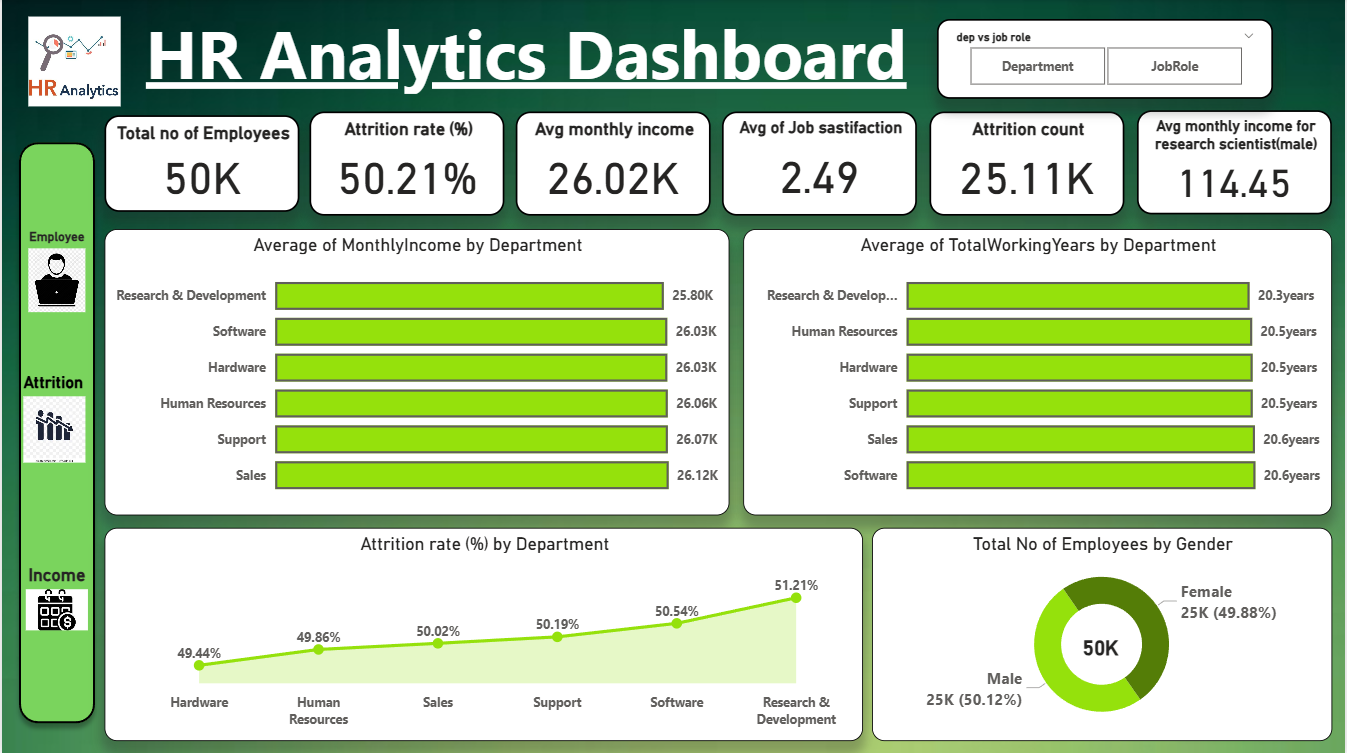

This screenshot's page, from the dashboard's own definition file:
{"tool":"powerbi","page":{"name":"Dash board","canvas":[1280,720],"ordinal":0},"visuals":[{"type":"shape","box":[104.8,0,789.3,97.6],"z":0},{"type":"card","title":"Total no of Employees","fields":{"Values":["HR_1.Total Employees"]},"box":[97.6,110.8,185.2,91.7],"z":0,"group":"g1"},{"type":"card","title":"Attrition rate (%)","fields":{"Values":["HR_1.Attrition rate (%)"]},"box":[292.2,107.2,185.2,98.8],"z":1000,"group":"g1"},{"type":"shape","box":[7.1,127.4,90.5,571.4],"z":1000},{"type":"group","id":"g1","title":"Group 1","box":[97.6,106,1169.1,100],"z":2000},{"type":"card","title":"Avg monthly income","fields":{"Values":["Avg(HR_2.MonthlyIncome)"]},"box":[489.3,107.2,185.2,98.8],"z":2000,"group":"g1"},{"type":"card","title":"Avg of Job sastifaction","fields":{"Values":["Avg(HR_1.JobSatisfaction)"]},"box":[686.3,107.2,185.2,98.8],"z":3000,"group":"g1"},{"type":"image","title":"Income","box":[17.9,538.1,69,67.9],"z":3000},{"type":"card","title":"Attrition count","fields":{"Values":["HR_1.Attrition_count"]},"box":[883.3,107.2,185.2,98.8],"z":4000,"group":"g1"},{"type":"barChart","fields":{"Category":["HR_1.Department","HR_1.JobRole"],"Y":["Avg(HR_2.MonthlyIncome)"]},"box":[97.6,219,595.2,272.6],"z":4000},{"type":"donutChart","fields":{"Category":["HR_1.Gender"],"Y":["HR_1.Total No of Employees"]},"box":[828.6,503.6,438.1,203.6],"z":4000,"group":"g2"},{"type":"card","title":"Avg monthly income for  research scientist(male)","fields":{"Values":["Avg(HR_1.HourlyRate)"]},"box":[1081.4,106,185.2,98.8],"z":5000,"group":"g1"},{"type":"image","title":"Attrition","box":[15.5,356,69,90.5],"z":5000},{"type":"card","fields":{"Values":["HR_1.Total No of Employees"]},"box":[1015.9,589.3,61.2,58.3],"z":5000,"group":"g2"},{"type":"clusteredBarChart","fields":{"Category":["HR_1.Department","HR_1.JobRole"],"Y":["Avg(HR_2.TotalWorkingYears)"]},"box":[706,219,560.7,272.6],"z":6000},{"type":"image","title":"Employee","box":[20.2,219,64.3,84.5],"z":7000},{"type":"lineChart","fields":{"Category":["HR_1.Department","HR_1.JobRole"],"Y":["HR_1.Attrition rate (%)"]},"box":[97.6,503.6,722.6,203.6],"z":8000},{"type":"group","id":"g2","title":"Group 2","box":[828.6,503.6,438.1,203.6],"z":9000},{"type":"slicer","fields":{"Values":["Features.Features"]},"box":[890.6,19.4,320.2,76.2],"z":10000},{"type":"image","box":[20.2,11.9,97.6,95.2],"z":11000}]}

Visuals, with their boxes in screenshot pixels (x1, y1, x2, y2), scaled from the page's 1280x720 canvas onto the 1347x753 screenshot:
shape: box=[110, 0, 941, 102]
"Total no of Employees" card: box=[103, 116, 298, 212]
"Attrition rate (%)" card: box=[307, 112, 502, 215]
shape: box=[7, 133, 103, 731]
"Group 1" group: box=[103, 111, 1333, 215]
"Avg monthly income" card: box=[515, 112, 710, 215]
"Avg of Job sastifaction" card: box=[722, 112, 917, 215]
"Income" image: box=[19, 563, 91, 634]
"Attrition count" card: box=[930, 112, 1124, 215]
barChart - HR_1.Department x HR_1.JobRole: box=[103, 229, 729, 514]
donutChart - HR_1.Gender x HR_1.Total No of Employees: box=[872, 527, 1333, 740]
"Avg monthly income for  research scientist(male)" card: box=[1138, 111, 1333, 214]
"Attrition" image: box=[16, 372, 89, 467]
card - HR_1.Total No of Employees: box=[1069, 616, 1133, 677]
clusteredBarChart - HR_1.Department x HR_1.JobRole: box=[743, 229, 1333, 514]
"Employee" image: box=[21, 229, 89, 317]
lineChart - HR_1.Department x HR_1.JobRole: box=[103, 527, 863, 740]
"Group 2" group: box=[872, 527, 1333, 740]
slicer - Features.Features: box=[937, 20, 1274, 100]
image: box=[21, 12, 124, 112]
